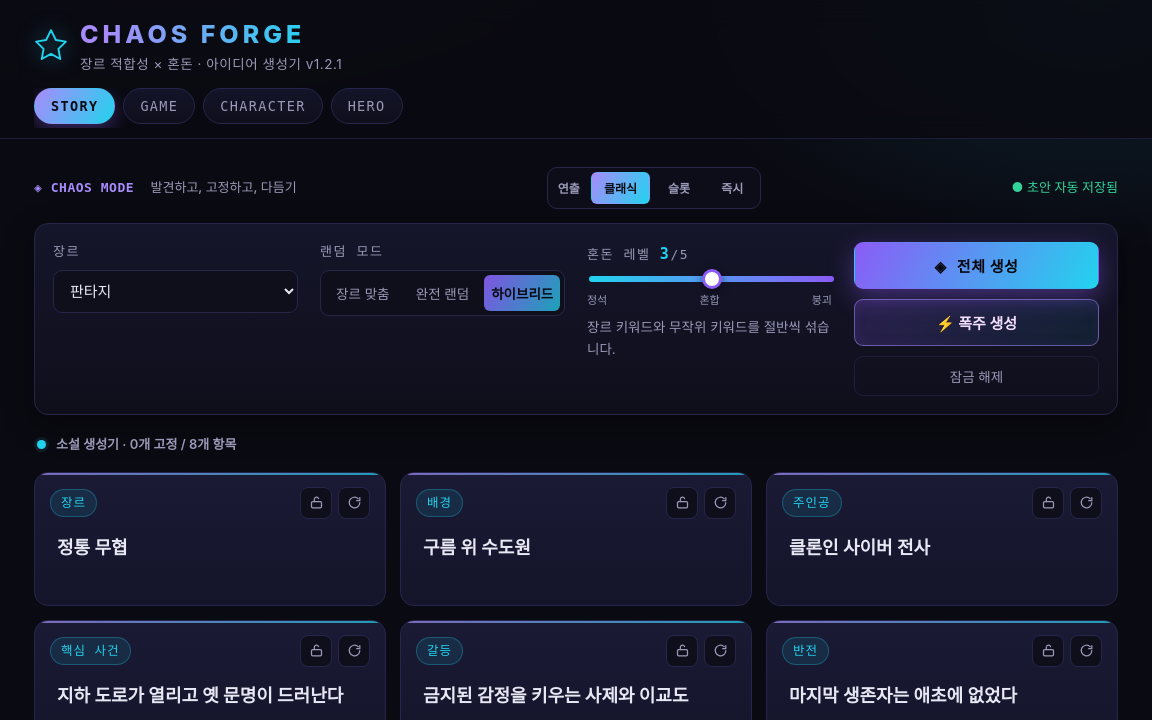
Scenario: V1.2 CHAOS MODE › 폭주 생성은 하이브리드 혼돈 5로 전환하며 잠금은 유지한다
Click the radio button labelled "장르 맞춤" at (363, 293), box x1=325 y1=275 x2=401 y2=311
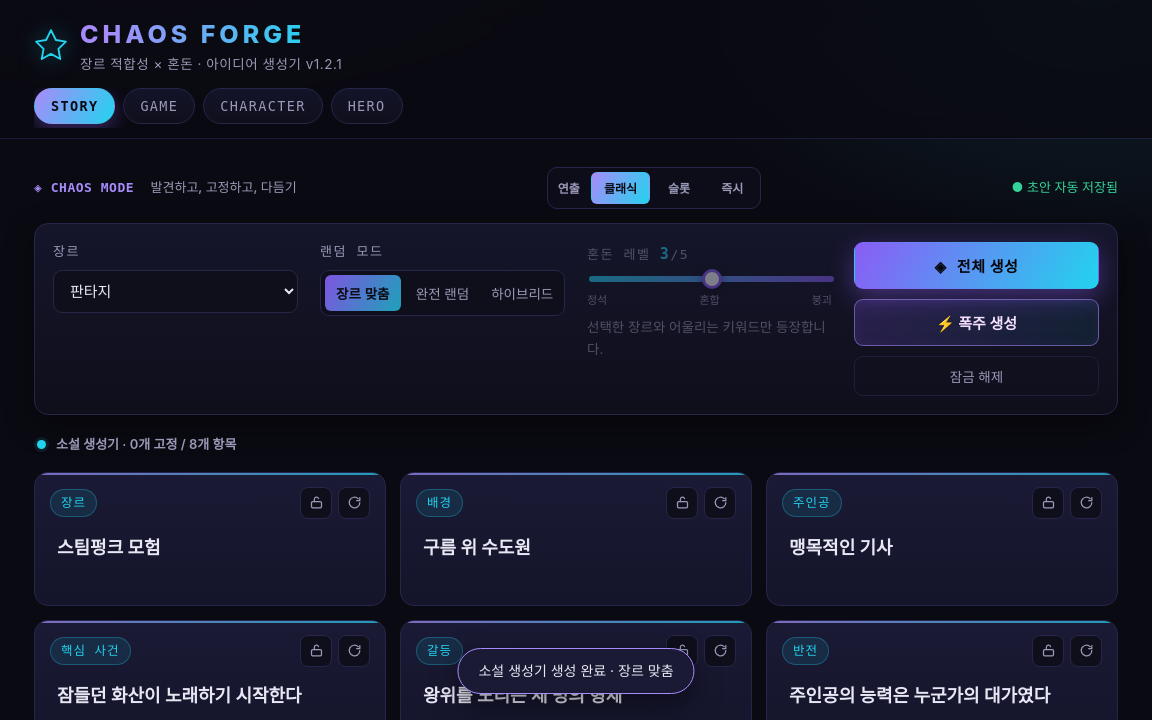
Click the 2nd button with class "js-lock" at (682, 503), box x1=666 y1=487 x2=698 y2=519
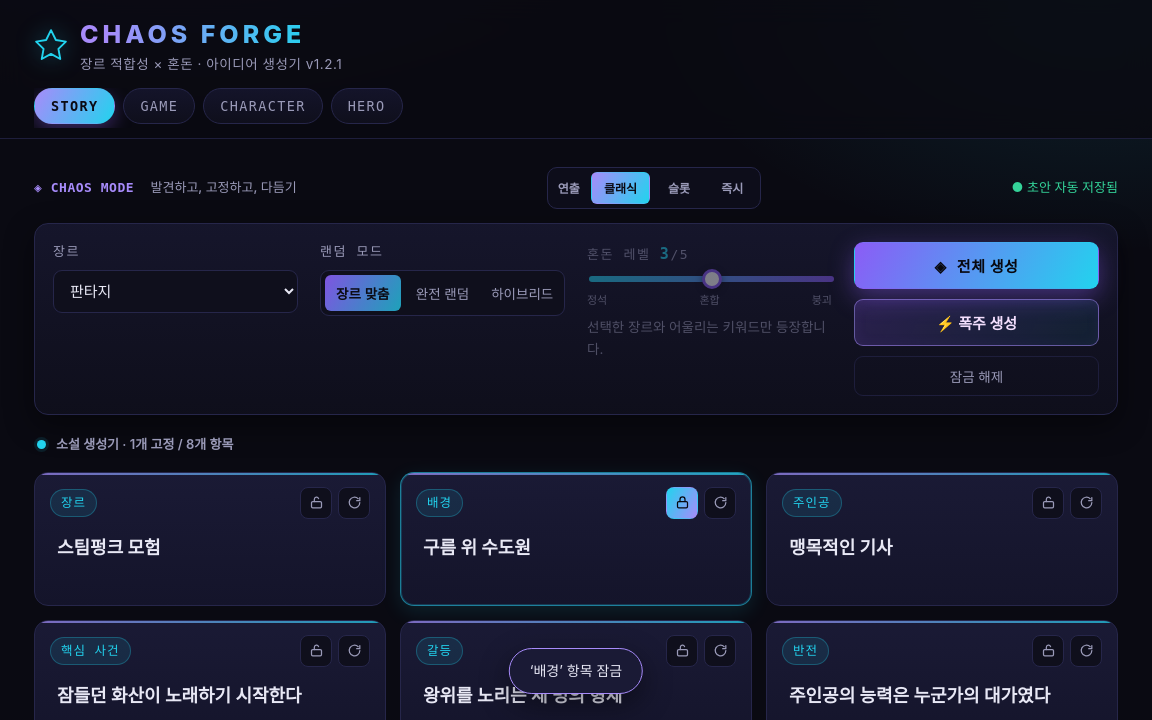
Click the button with id "overdriveBtn" at (976, 322), box x1=854 y1=299 x2=1099 y2=346
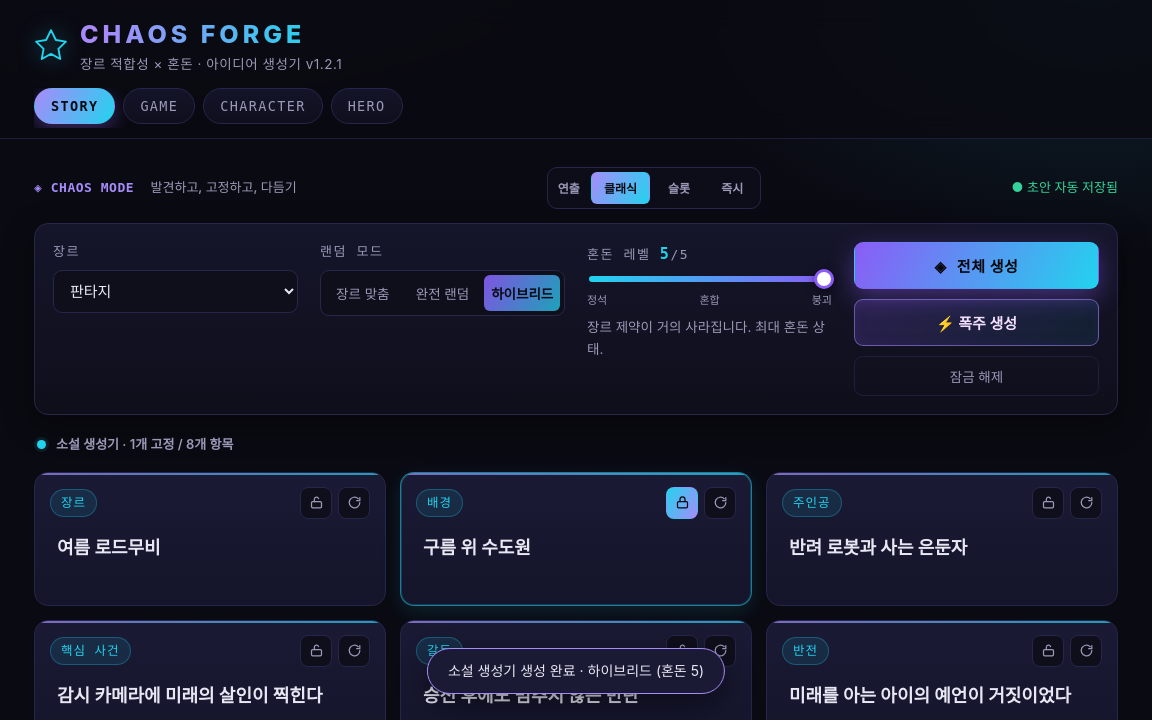
Now the text with id "chaosValue" reads "5", box x1=660 y1=245 x2=670 y2=263
